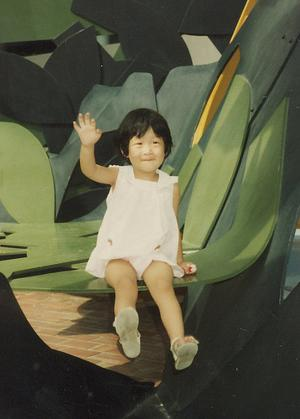person: (72, 107, 199, 371)
